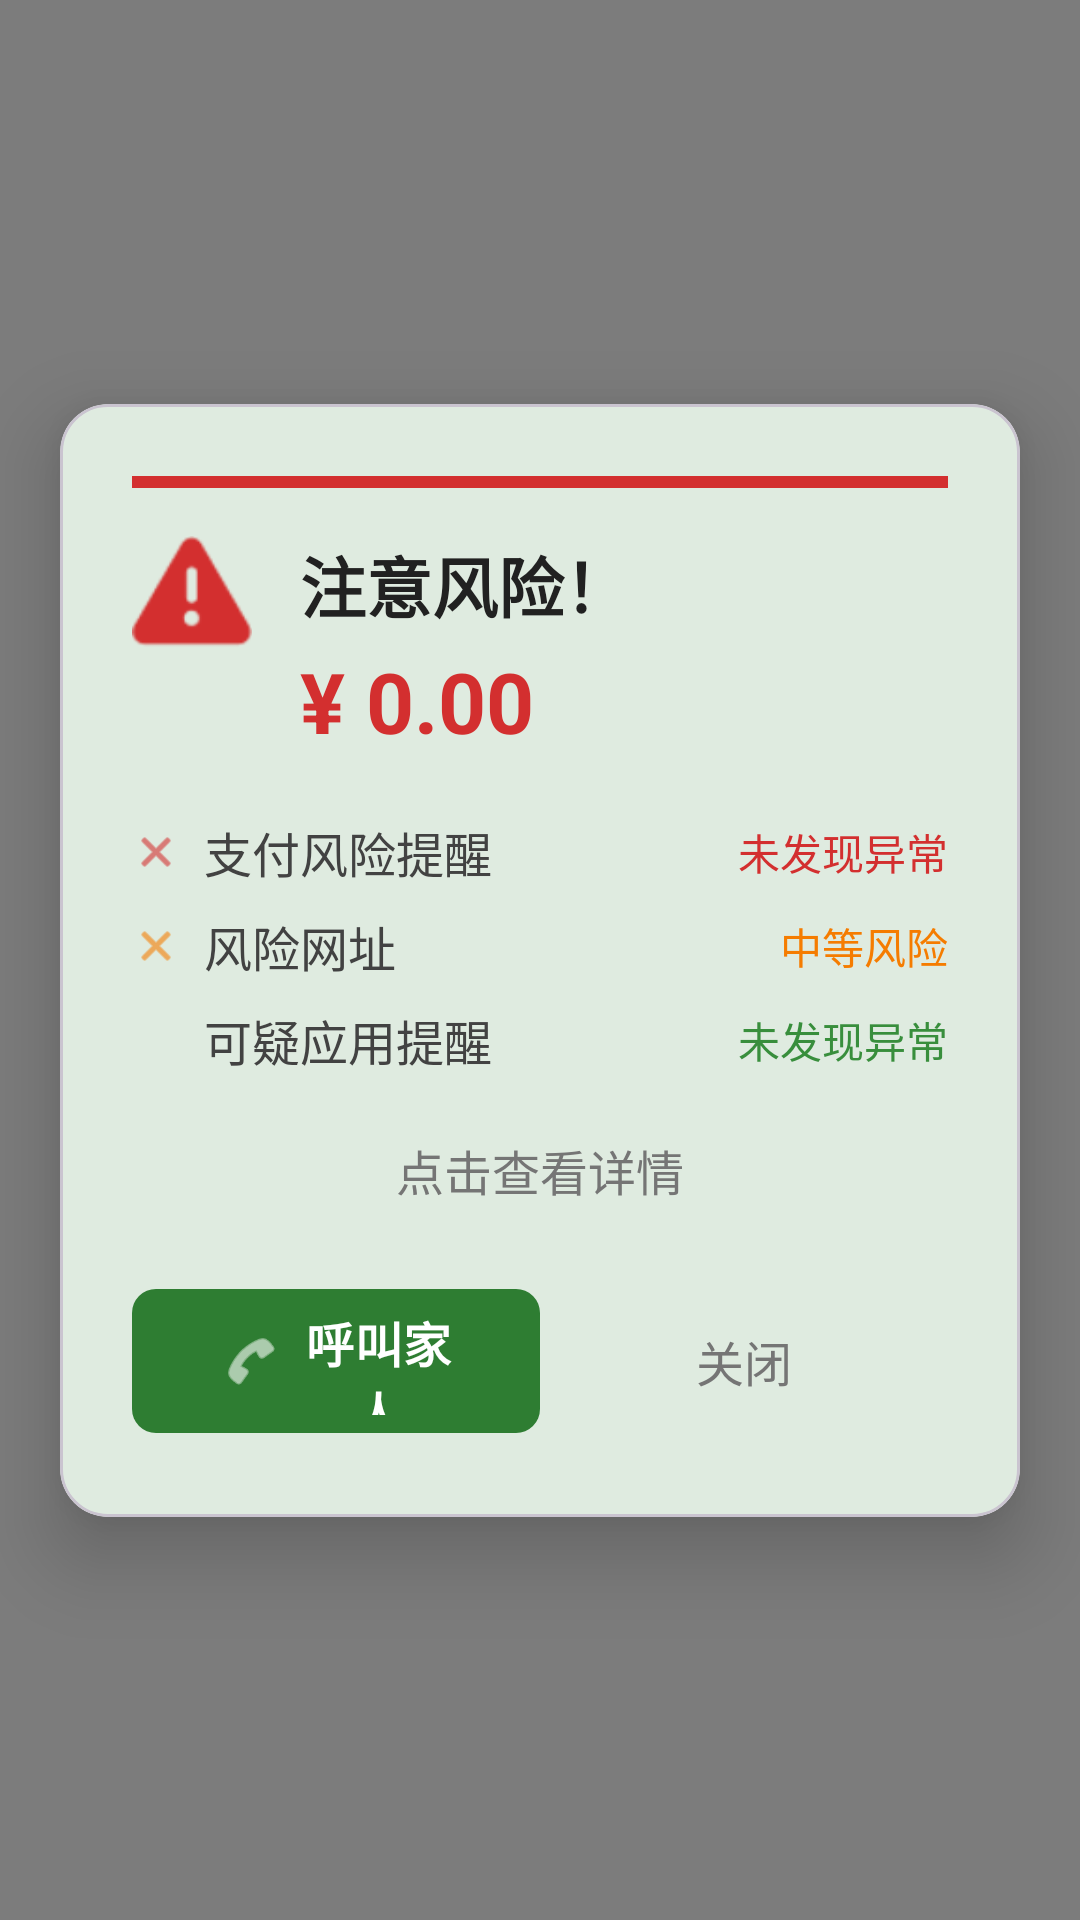

Named icons in this screenshot (1080px×1920px) and their bounding boxes, bbox=(x1, y1, x2, y2):
alert: bbox=(132, 536, 252, 645)
close clear cancel: bbox=(141, 837, 171, 867), bbox=(141, 931, 171, 961)
